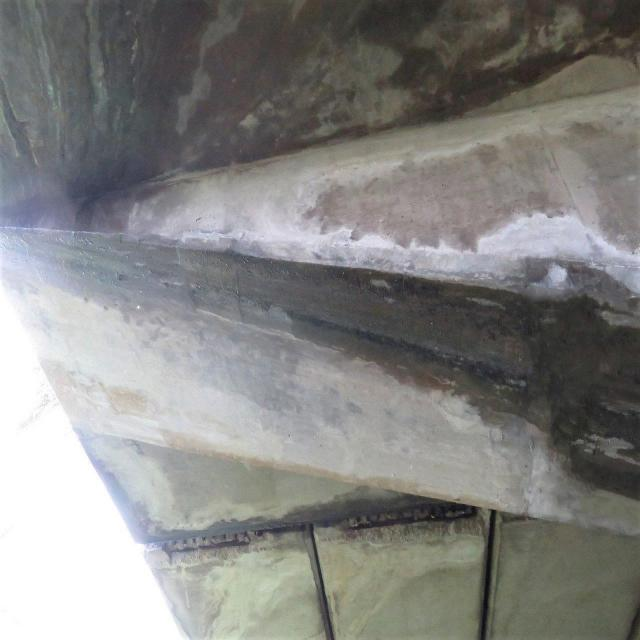Rebar: (143, 500, 489, 567)
